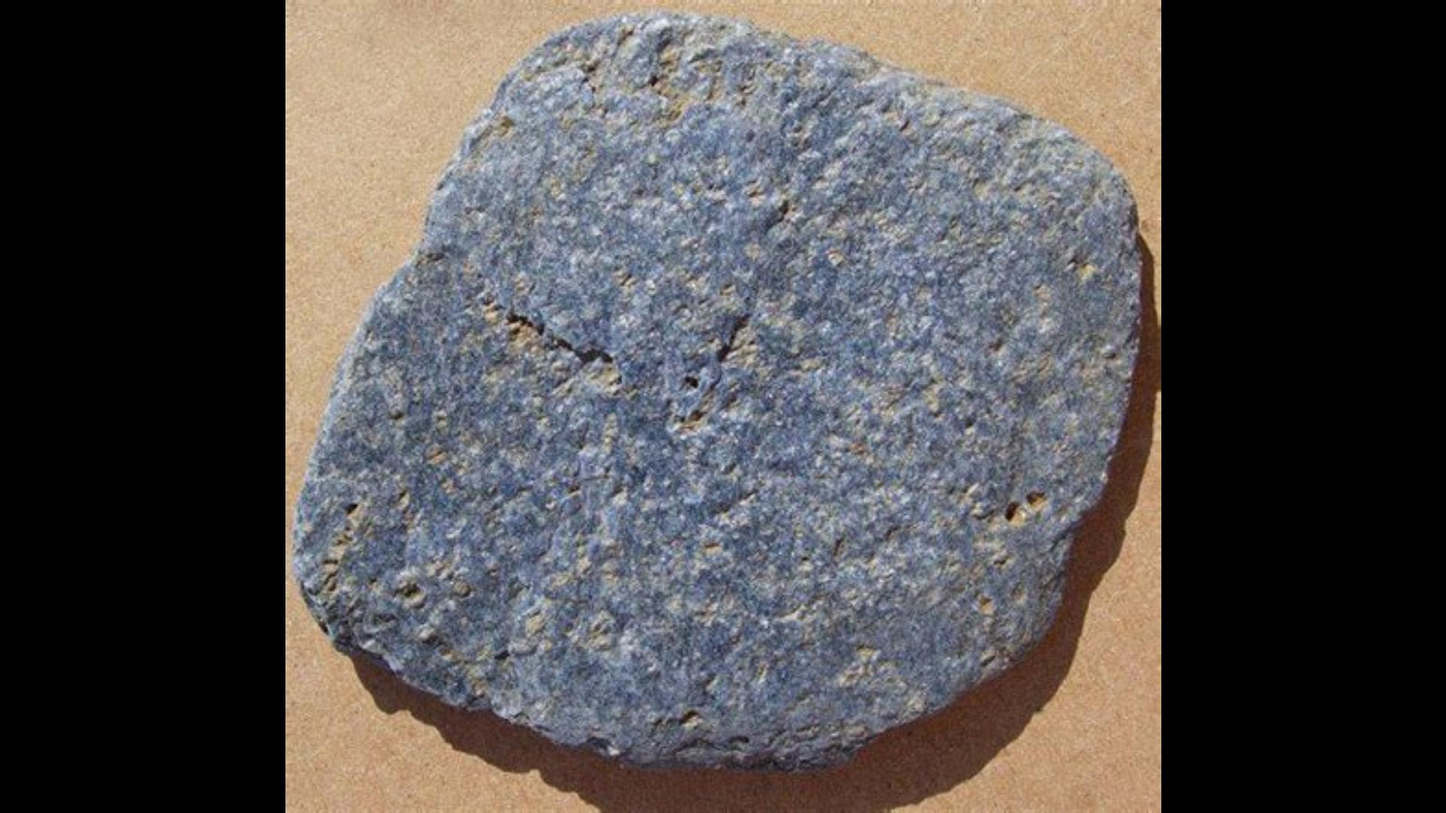rock: (294, 15, 1150, 765)
